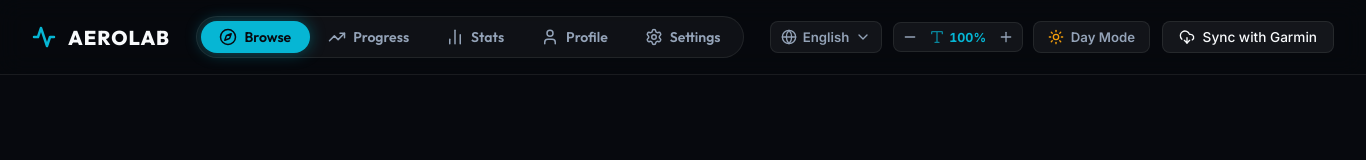
Scenario: Navbar & Theme Switcher UI Component Tests › renders language switcher dropdown and switches language via dropdown menu
Note: Click language button to open dropdown menu
What coordinates should you click on to do the following:
click the button with id "language-toggle-btn"
I would click on:
 (826, 37)
Its box is [770,21,882,53].
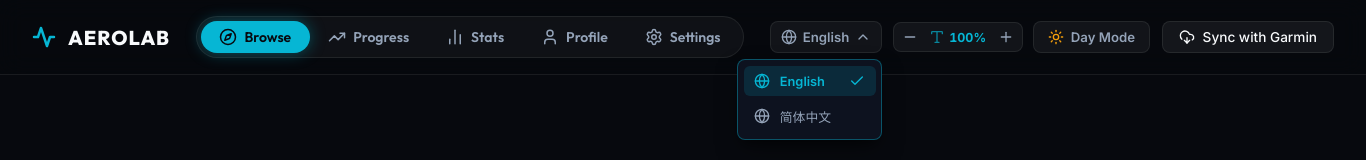
Result: the menu item with id "lang-option-zh" is shown
Result: the menu item with id "lang-option-zh" reads "简体中文"
Note: Select Chinese
What coordinates should you click on to do the following:
click the menu item with id "lang-option-zh"
I would click on:
 (810, 116)
Its box is [744,100,876,133].
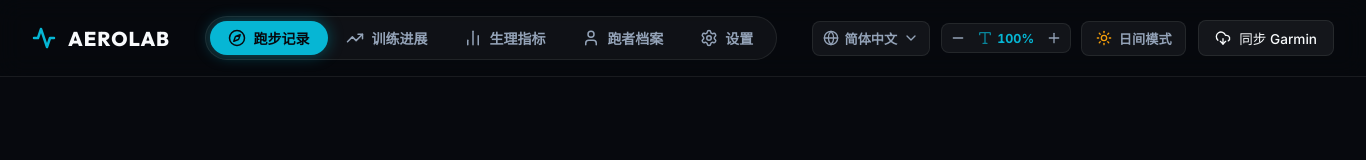
Result: the button with id "language-toggle-btn" reads "简体中文"
Result: the button with id "tab-browse-btn" reads "跑步记录" at [210,21,328,55]
Result: the button with id "tab-progress-btn" reads "训练进展" at [328,21,446,55]
Note: Click again to open menu and select English
What coordinates should you click on to do the following:
click the button with id "language-toggle-btn"
I would click on:
 (871, 38)
Its box is [812,20,930,56].
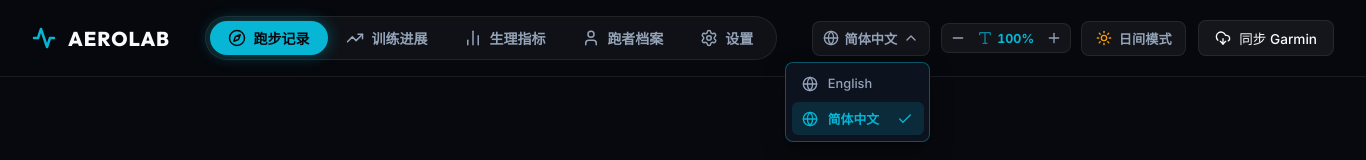
Result: the menu item with id "lang-option-en" is shown
What coordinates should you click on to do the following:
click the menu item with id "lang-option-en"
I would click on:
 (858, 84)
Its box is [792,68,924,99].
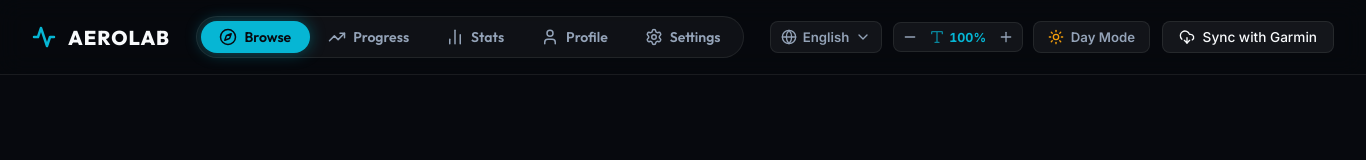
Result: the button with id "language-toggle-btn" reads "English" at [770,21,882,53]
Result: the button with id "tab-browse-btn" reads "Browse" at [201,21,310,53]
